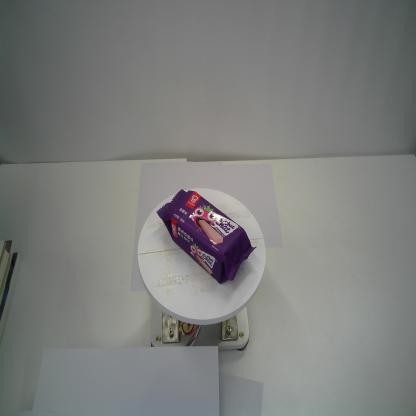Dessert: (154, 188, 257, 286)
